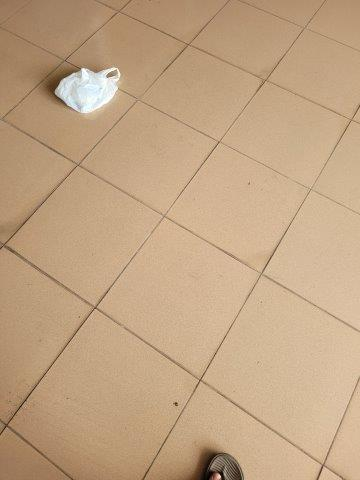plastik: (53, 67, 118, 111)
